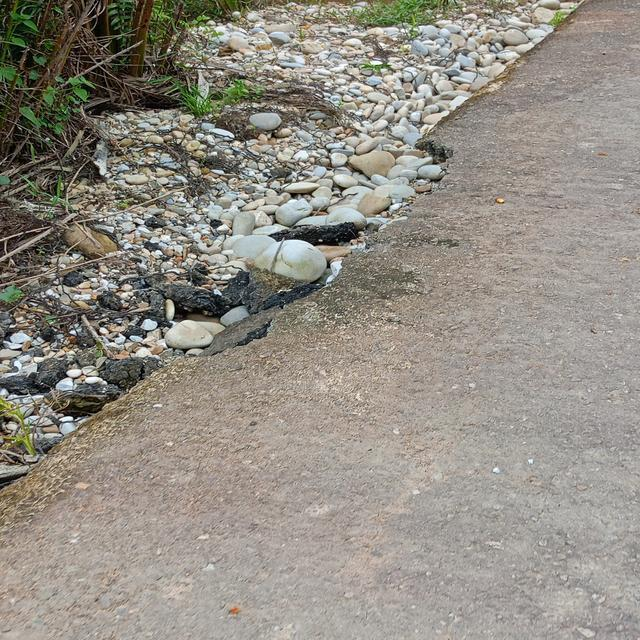Pinggir: (0, 7, 590, 585)
